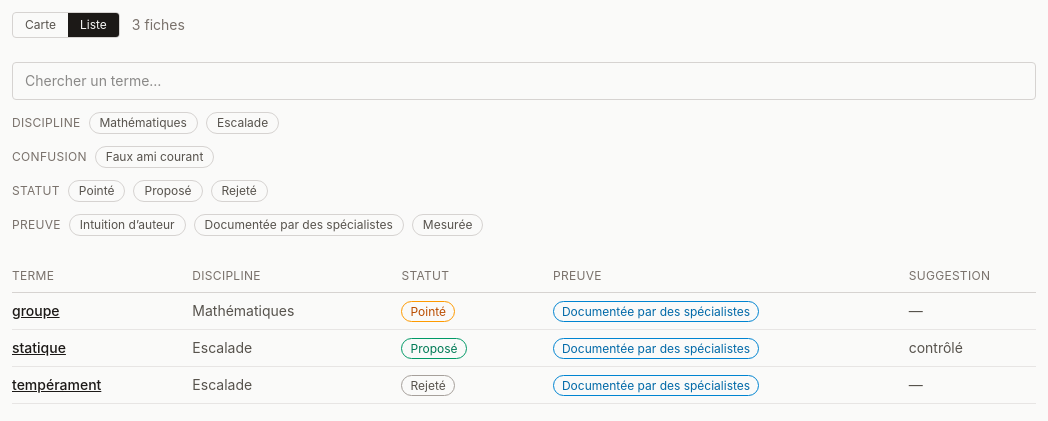
it: Corpus — filtres et URL › affiche un message explicite et un moyen d’effacer quand rien ne correspond
The width and height of the screenshot is (1048, 421).
Type "licorne" into the search field. click: (524, 81)
box: [12,62,1036,100]
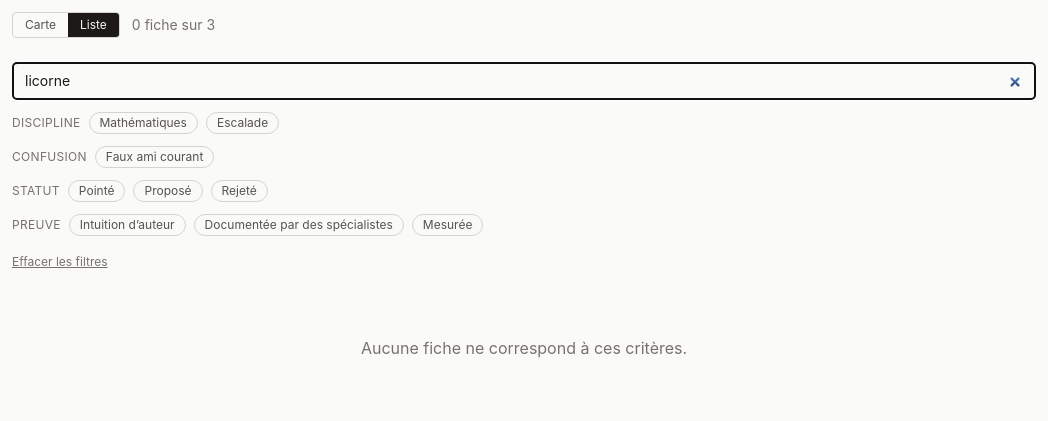
Result: the text "Aucune fiche ne correspond à ces critères." is shown at [361,338,687,358]
Click the button "Effacer les filtres". click: (60, 262)
box: [12,254,108,270]
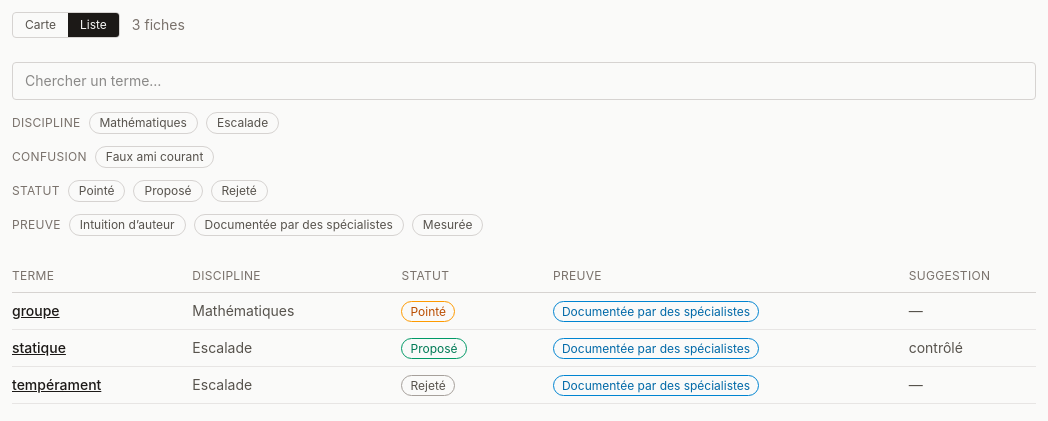
Result: the text "3 fiches" is shown at [132,15,185,35]
